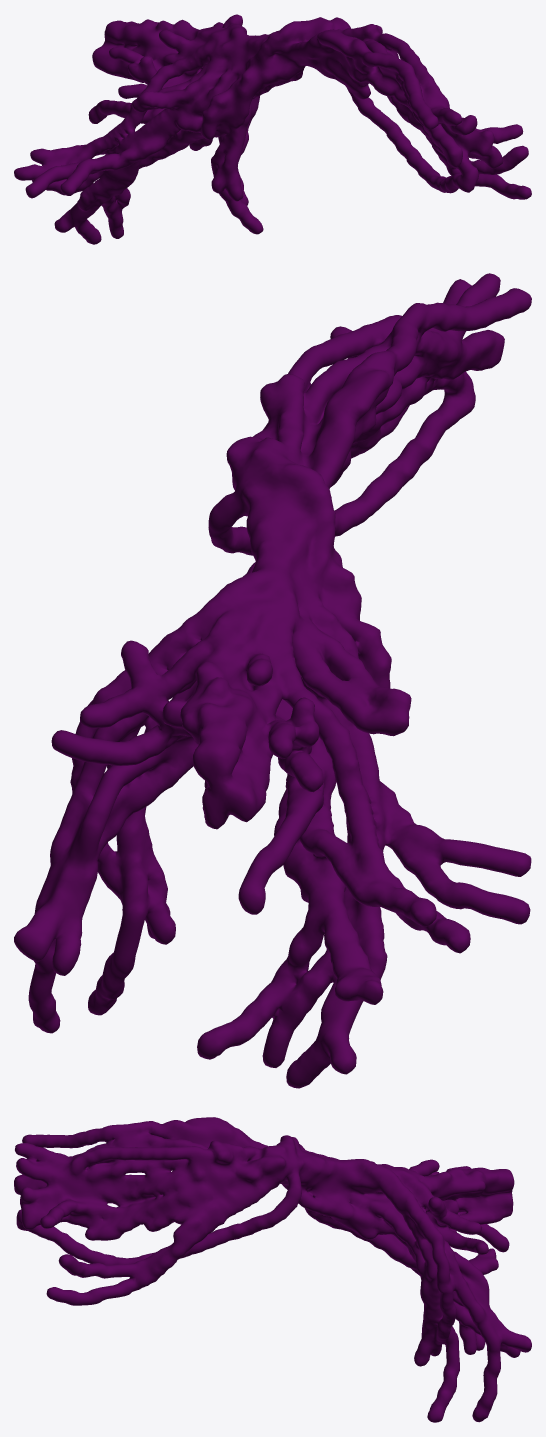
The model's file is Pyramidal_tract.obj.
3 renders of one model, top to bottom at view 1: azimuth 30°, elevation 25°; view 2: azimuth 150°, elevation 25°; view 3: azimuth 270°, elevation 25°, orthographic. The views are drawn at different scales.
Parts seen in each view (by area): view 1: grp1; view 2: grp1; view 3: grp1.
Boxes of the visible parts, x1,y1,x2,y2 form: grp1: [14, 14, 531, 244]; grp1: [14, 273, 531, 1088]; grp1: [14, 1117, 531, 1422].
Size of the model in its own units: 90.56 by 80.41 by 131.
